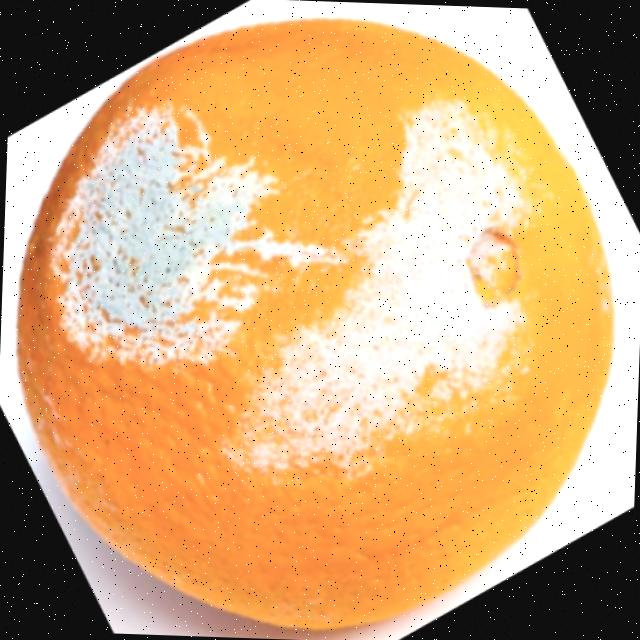Rotten: (4, 4, 624, 640)
